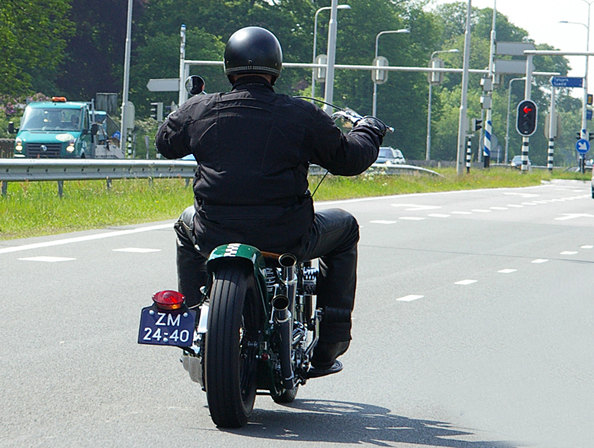kenteken: (140, 307, 194, 345)
